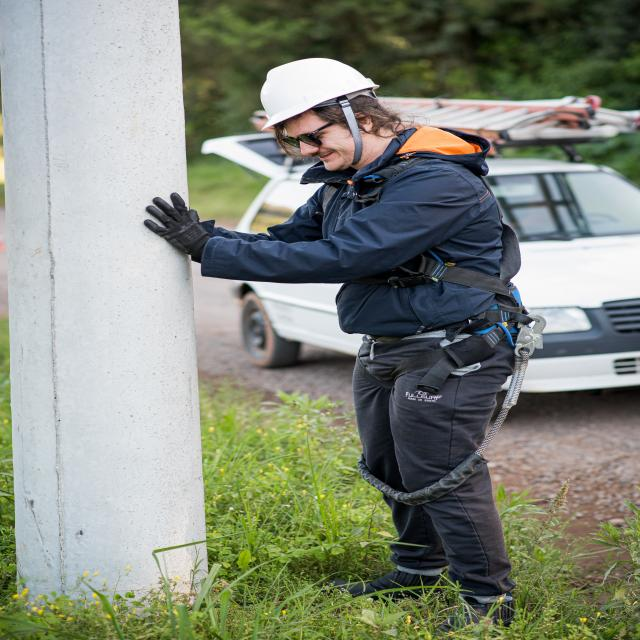capacete: (255, 55, 384, 131)
luva: (141, 190, 223, 265)
